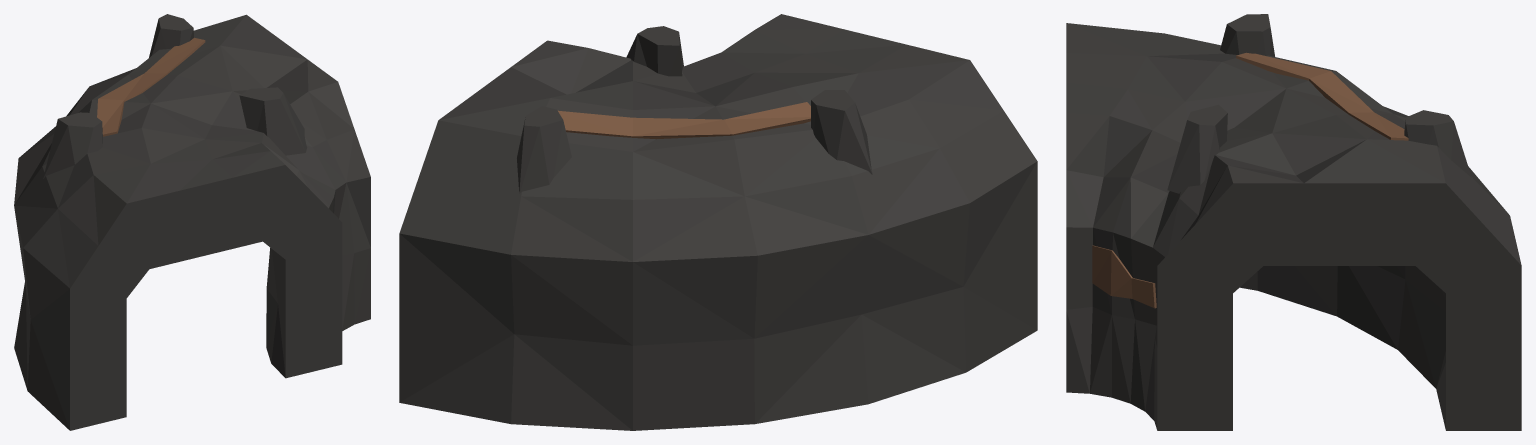
Rendered from RC_TunnelBend.fbx.
3 views of the same model, side by side, from view 1: azimuth 30°, elevation 25°; view 2: azimuth 150°, elevation 25°; view 3: azimuth 270°, elevation 25° (orthographic). The views are drawn at different scales.
Visible parts, largest first — view 1: RC_TunnelBend_Rock, RC_TunnelBend_Stain; view 2: RC_TunnelBend_Rock, RC_TunnelBend_Stain; view 3: RC_TunnelBend_Rock, RC_TunnelBend_Stain.
Boxes of the visible parts, x1,y1,x2,y2 form: RC_TunnelBend_Rock: [14, 14, 370, 430]; RC_TunnelBend_Stain: [97, 37, 205, 136]; RC_TunnelBend_Rock: [399, 14, 1037, 430]; RC_TunnelBend_Stain: [558, 102, 810, 139]; RC_TunnelBend_Rock: [1066, 14, 1521, 430]; RC_TunnelBend_Stain: [1092, 52, 1408, 308].
Bounding box in the file's own units: 30 × 19.4 × 30.
